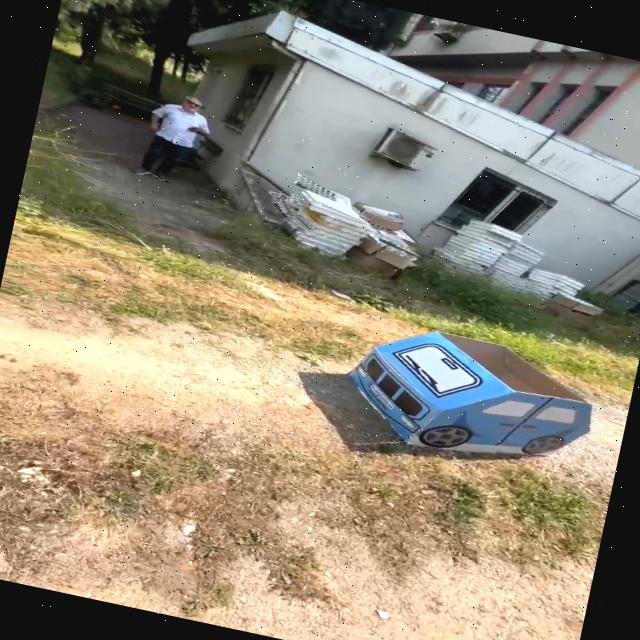blue_car: (293, 287, 619, 490)
